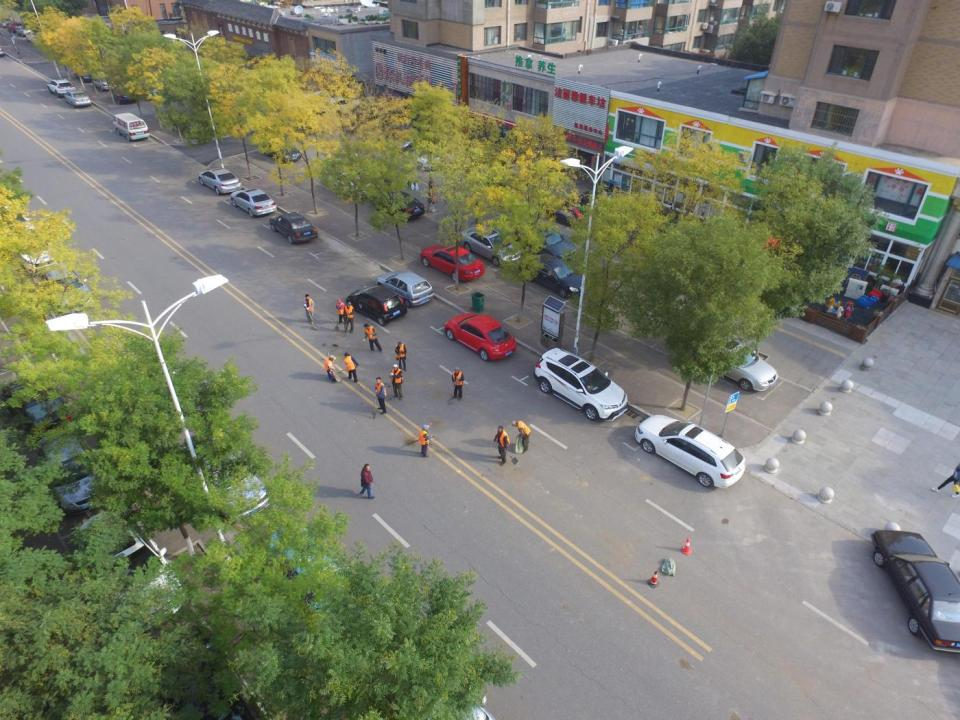car: (75, 516, 184, 636), (869, 529, 960, 656), (273, 526, 369, 642), (172, 426, 268, 528), (634, 413, 745, 489), (34, 442, 108, 518), (0, 374, 74, 442), (697, 335, 780, 391), (446, 315, 517, 359), (525, 253, 591, 296), (421, 243, 488, 284), (348, 286, 406, 326), (518, 226, 579, 262), (462, 226, 516, 266), (376, 269, 431, 306), (375, 186, 426, 225), (271, 210, 318, 243), (416, 142, 460, 173), (259, 136, 302, 166), (232, 188, 276, 215), (198, 168, 241, 195), (393, 129, 430, 154), (64, 87, 94, 108), (136, 80, 163, 100), (111, 83, 136, 104), (45, 79, 72, 97), (92, 72, 116, 90), (72, 65, 96, 83), (26, 30, 42, 44), (5, 20, 22, 33), (17, 24, 34, 36)
van: (533, 351, 627, 421), (112, 111, 150, 141)
